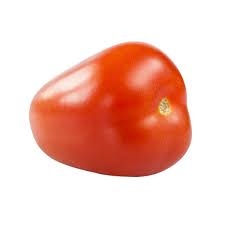tomato: (28, 42, 193, 180)
